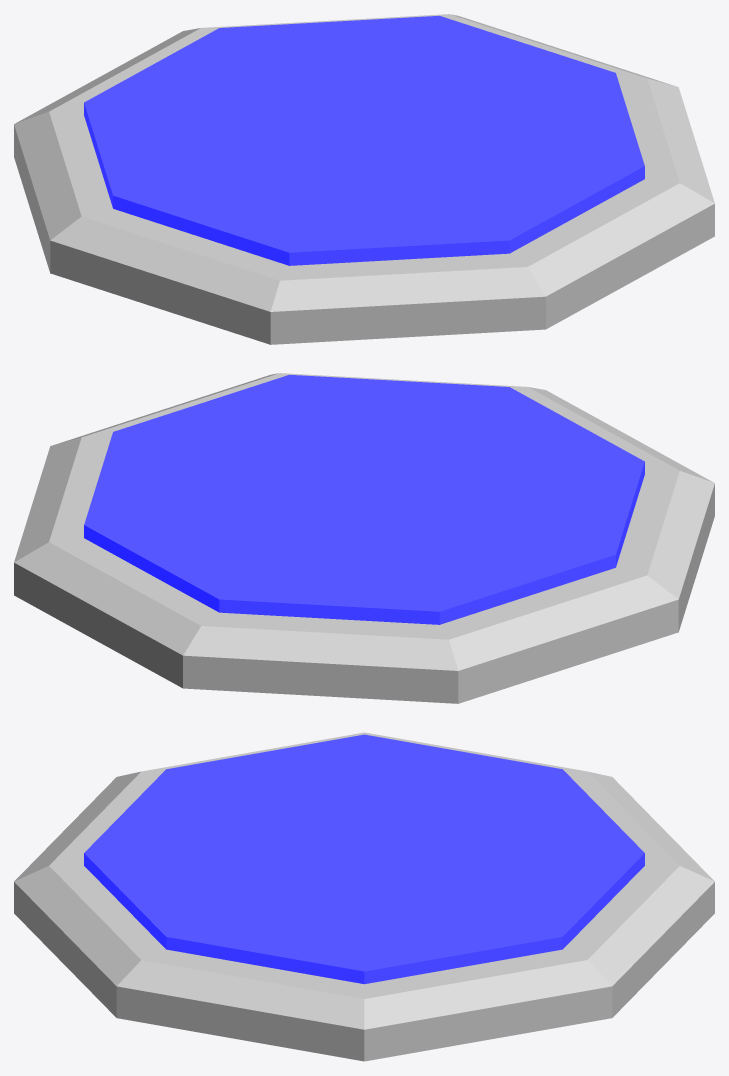
The model's file is checkpoint.fbx.
3 views of the same model, one above another, from view 1: azimuth 30°, elevation 25°; view 2: azimuth 150°, elevation 25°; view 3: azimuth 270°, elevation 25° (orthographic). The views are drawn at different scales.
Visible parts, largest first — view 1: checkpoint; view 2: checkpoint; view 3: checkpoint.
Part boxes in pixels (bbox=[...]): checkpoint: bbox=[14, 14, 714, 344]; checkpoint: bbox=[14, 373, 714, 703]; checkpoint: bbox=[14, 732, 714, 1061].
Size of the model in its own units: 100 by 9.5 by 100.
